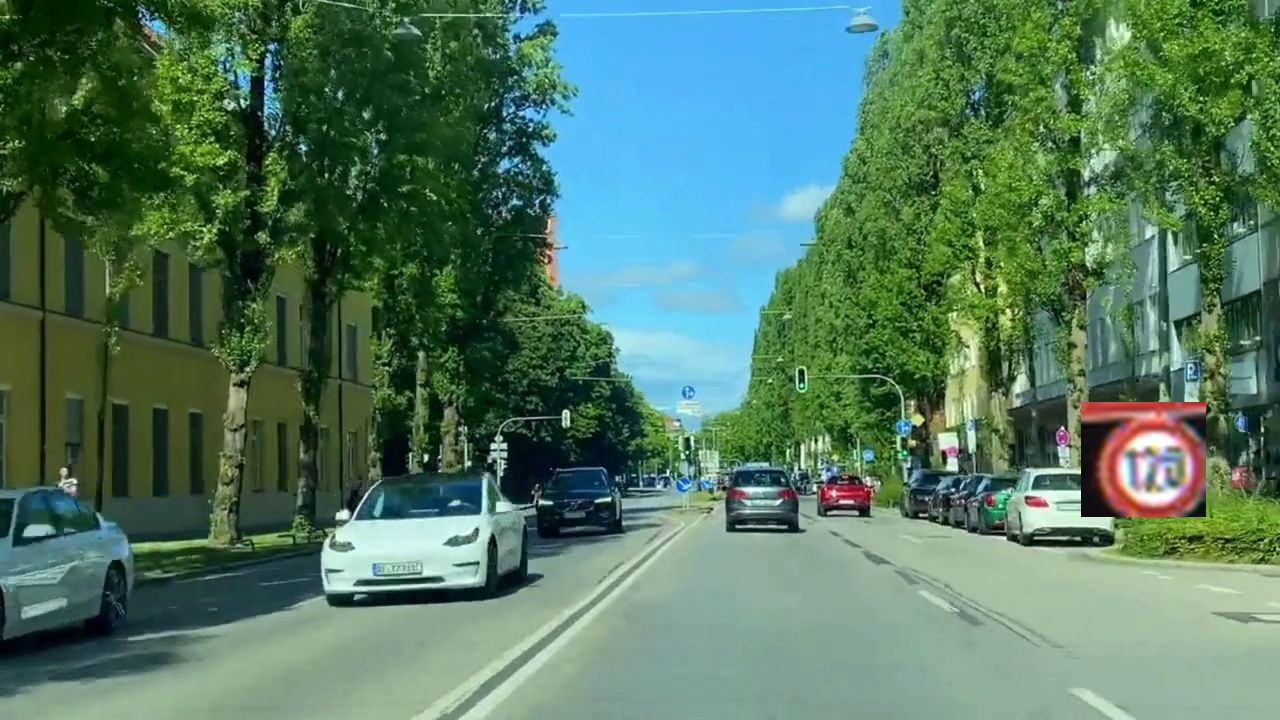Speed 120: (1081, 402, 1206, 517)
